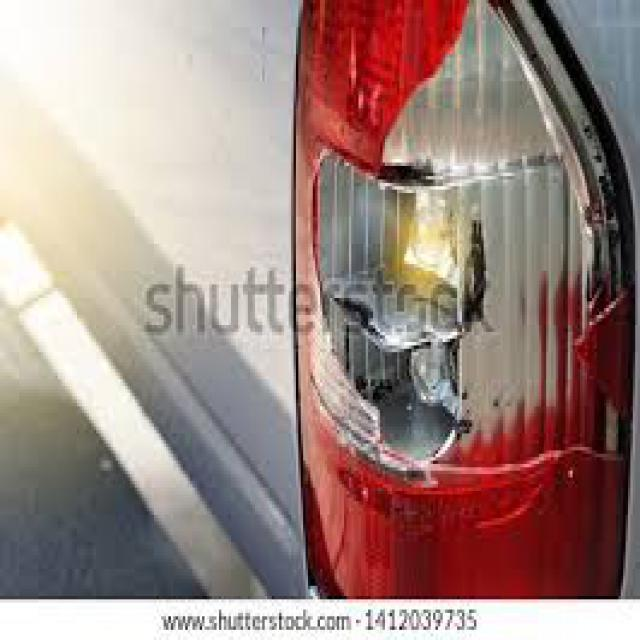Taillight-Damage: (312, 0, 561, 583)
